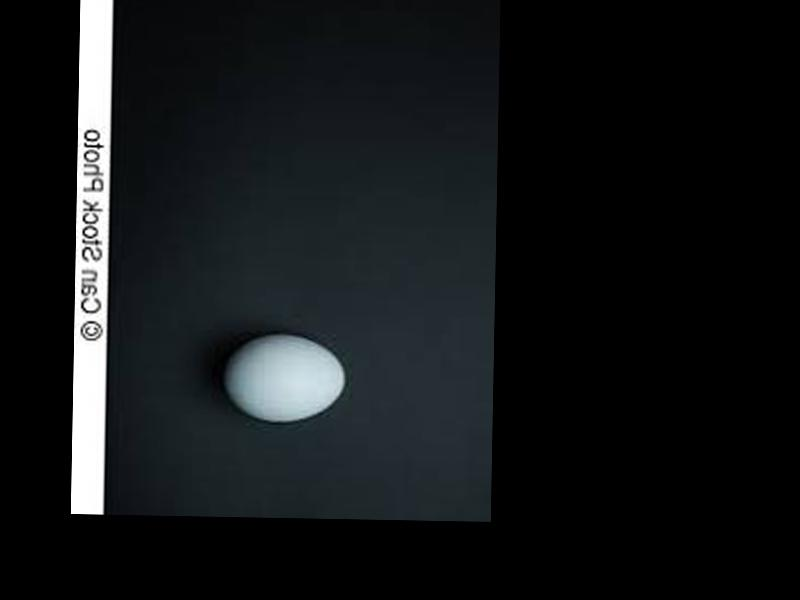Eggs: (223, 334, 346, 425)
